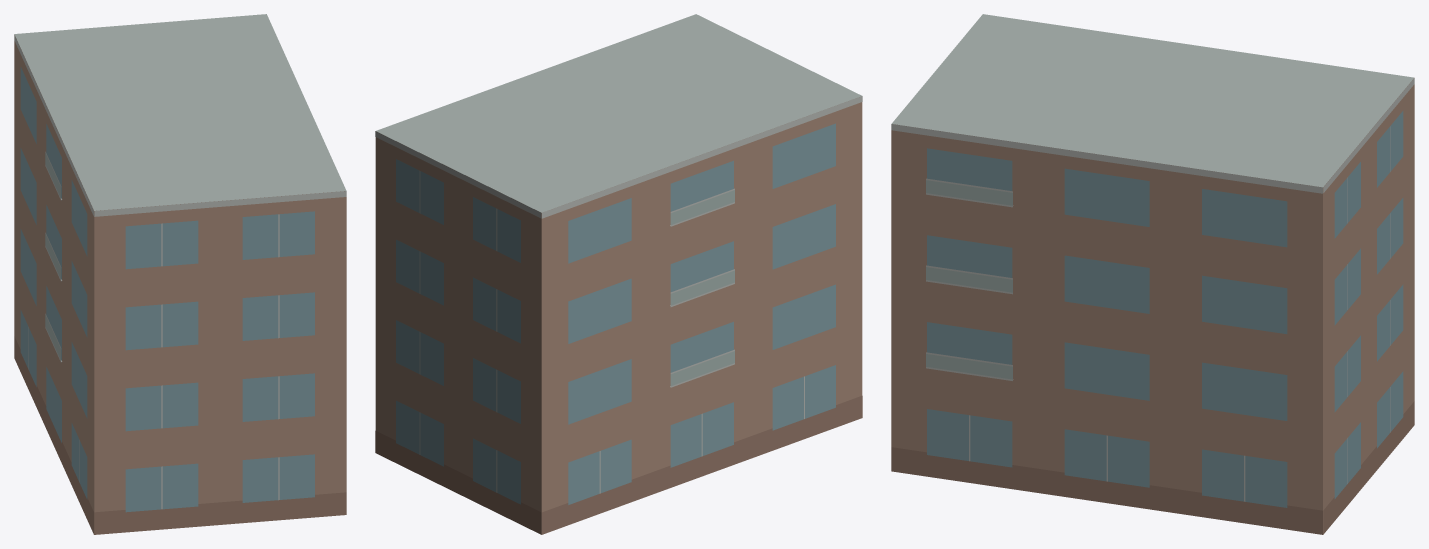
The model's file is survey-upis-32884090.glb.
The picture shows the model from 3 angles, left to right: view 1: azimuth 30°, elevation 25°; view 2: azimuth 150°, elevation 25°; view 3: azimuth 270°, elevation 25°; orthographic projection. The views are drawn at different scales.
Parts seen in each view (by area): view 1: survey-upis-32884090.tmp; view 2: survey-upis-32884090.tmp; view 3: survey-upis-32884090.tmp.
Boxes of the visible parts, x1,y1,x2,y2 form: survey-upis-32884090.tmp: (14,14,346,534); survey-upis-32884090.tmp: (375,14,862,534); survey-upis-32884090.tmp: (891,14,1414,534).
Size of the model in its own units: 14.13 by 13.2 by 18.02.
